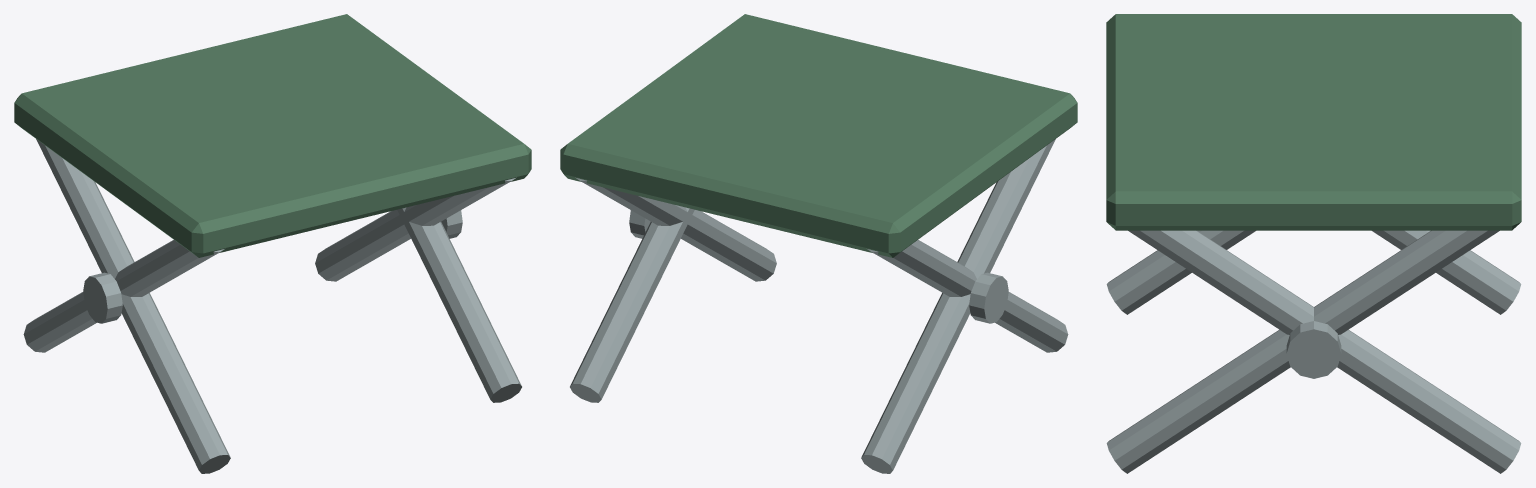
Rendered from Camp_Stool_A.glb.
3 renders of one model, left to right at view 1: azimuth 30°, elevation 25°; view 2: azimuth 150°, elevation 25°; view 3: azimuth 270°, elevation 25°, orthographic. The views are drawn at different scales.
Parts seen in each view (by area): view 1: Camp_Stool_A; view 2: Camp_Stool_A; view 3: Camp_Stool_A.
Boxes of the visible parts, x1,y1,x2,y2 form: Camp_Stool_A: (14, 14, 531, 473); Camp_Stool_A: (560, 14, 1077, 473); Camp_Stool_A: (1106, 14, 1521, 473).
Bounding box in the file's own units: 0.585 × 0.4078 × 0.53.
